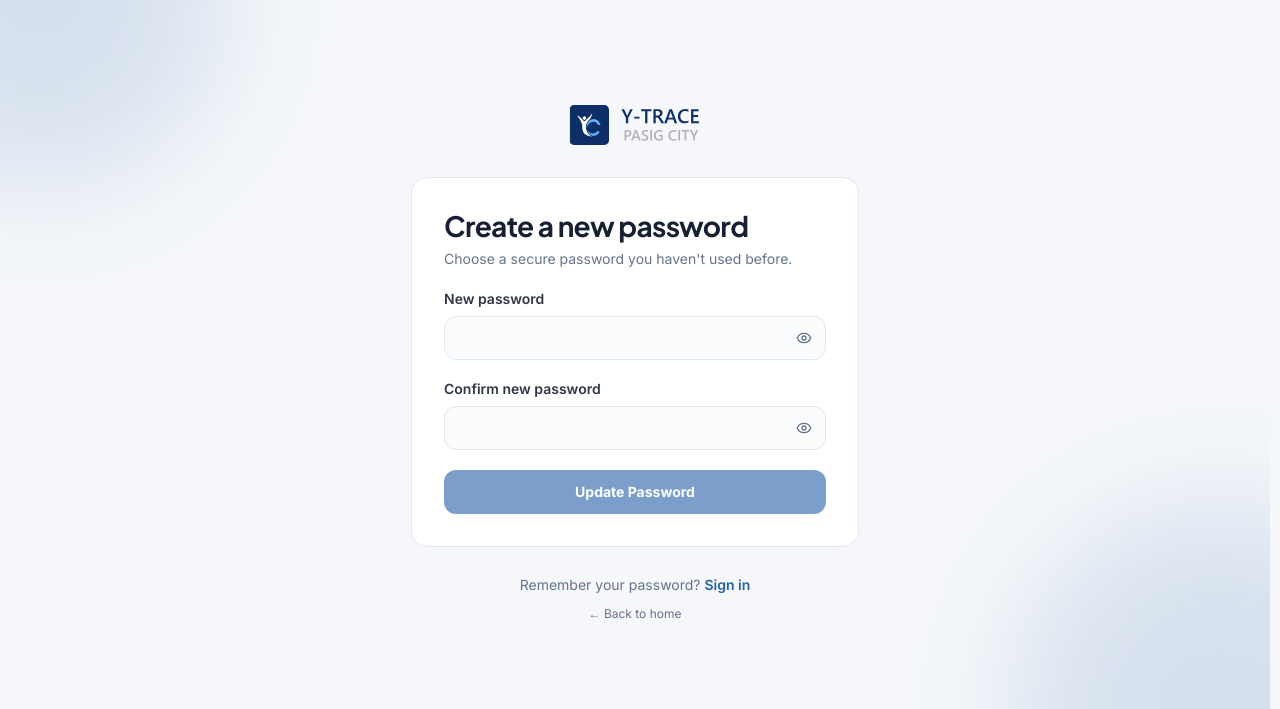
Test: ResetPassword Component & Recovery Flow Suite › Test 11: Executes updateUser and shows password updated confirmation screen
The width and height of the screenshot is (1280, 709).
Step 1. Type "SecurePass123!" into the password field labelled "New password" → (635, 338), box [444, 316, 826, 360]
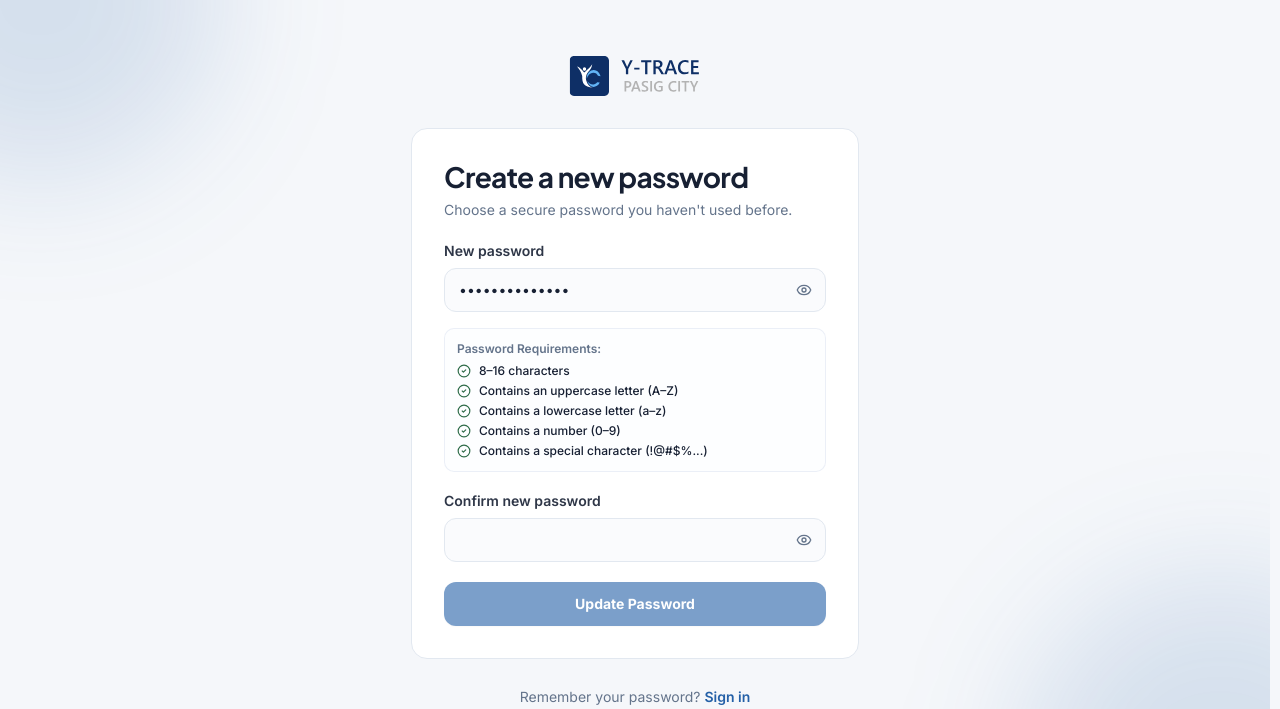
Step 2. Type "SecurePass123!" into the password field labelled "Confirm new password" → (635, 540), box [444, 518, 826, 562]
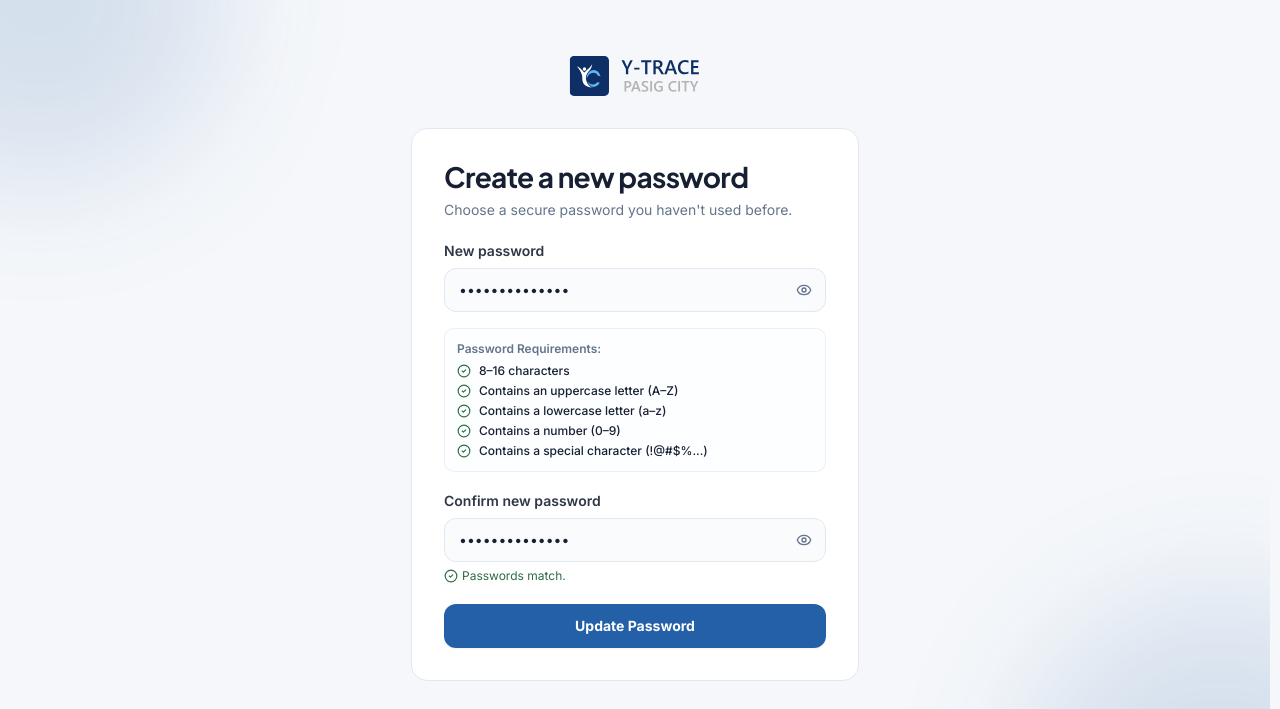
Step 3. Click the button "Update Password" → (635, 626), box [444, 604, 826, 648]
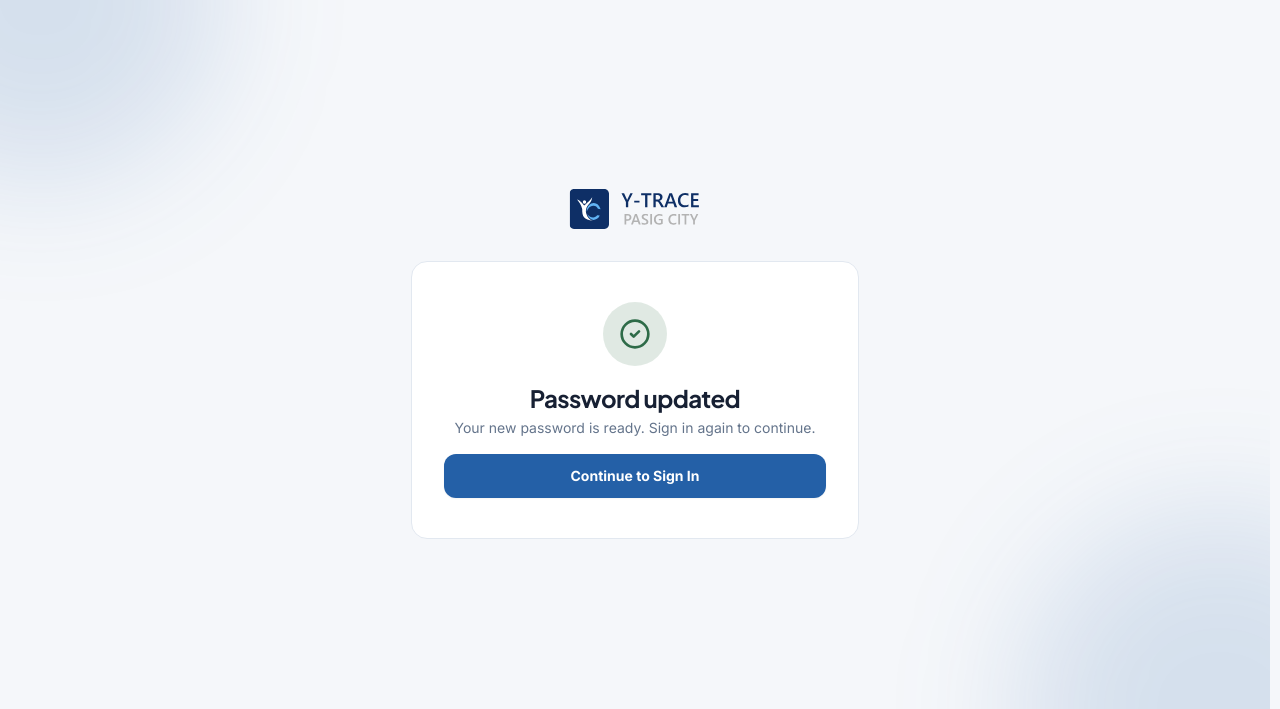
Expected: the heading "Password updated" is shown, [530, 383, 740, 413]
Expected: the button "Continue to Sign In" is shown, [444, 454, 826, 498]
